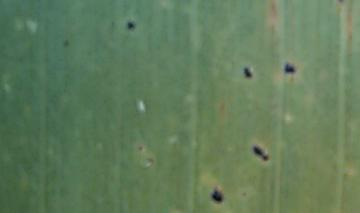tarspot: (212, 188, 224, 203), (283, 63, 296, 75), (243, 67, 253, 78), (253, 145, 263, 155), (127, 21, 135, 32), (63, 39, 70, 48), (262, 154, 269, 161), (137, 145, 144, 151), (337, 1, 346, 4)
